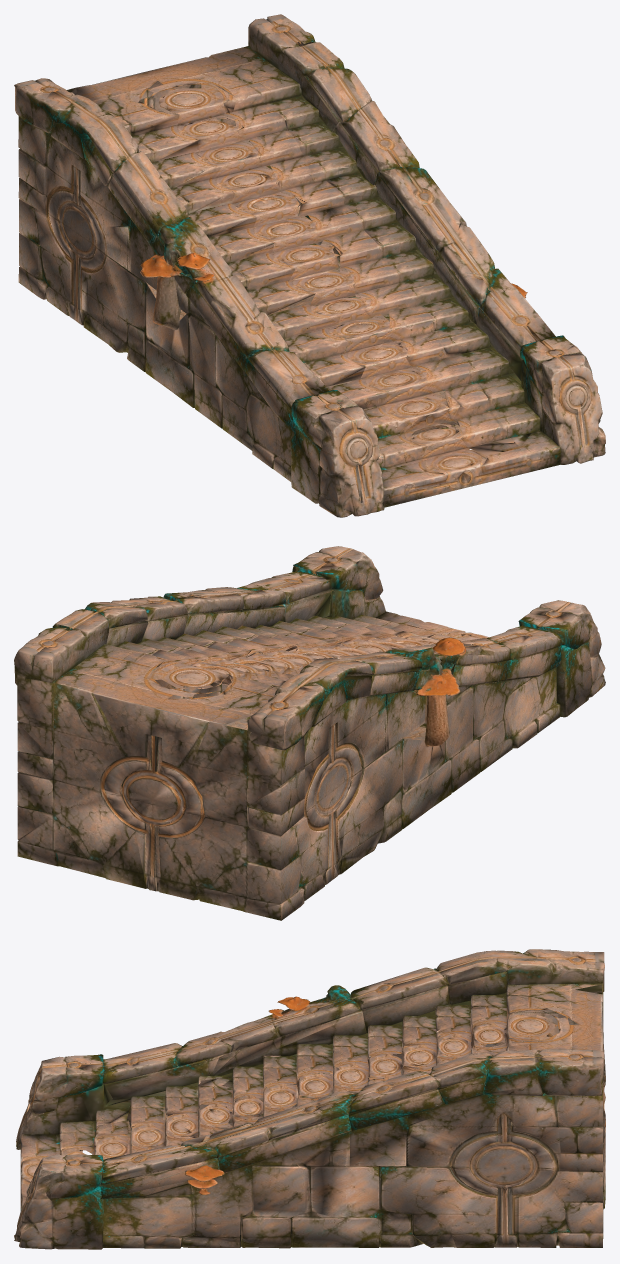
Rendered from citadel_stairs.fbx.
3 views of the same model, one above another, from view 1: azimuth 30°, elevation 25°; view 2: azimuth 150°, elevation 25°; view 3: azimuth 270°, elevation 25° (orthographic). The views are drawn at different scales.
Visible parts, largest first — view 1: citadel_stairs; view 2: citadel_stairs; view 3: citadel_stairs.
Boxes of the visible parts, bbox=[...] form: citadel_stairs: bbox=[14, 14, 605, 517]; citadel_stairs: bbox=[14, 546, 605, 920]; citadel_stairs: bbox=[14, 949, 605, 1249].
Size of the model in its own units: 9 by 5.69 by 16.48.
